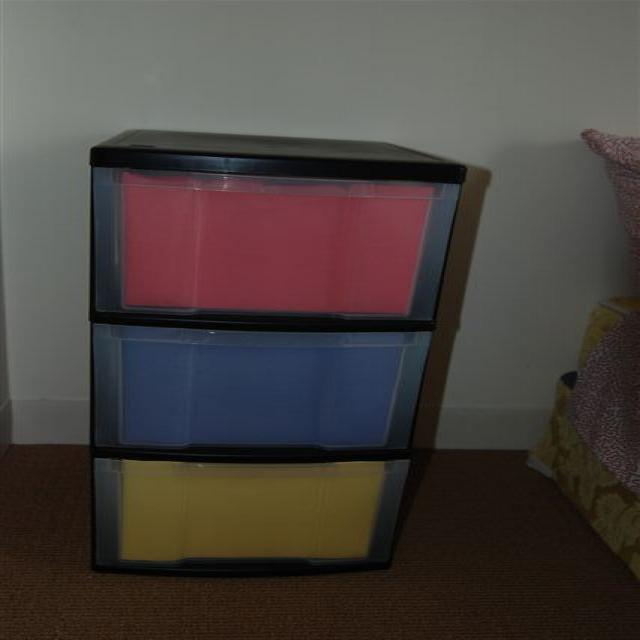bed frame: (535, 126, 639, 574)
floor -X: (1, 446, 637, 639)
furniture crop: (91, 124, 490, 577)
wall clock: (1, 1, 639, 452)
